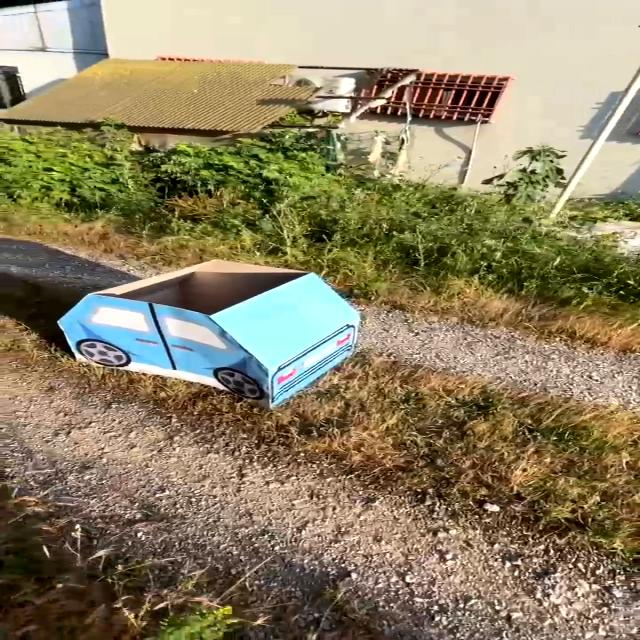blue_car: (0, 229, 412, 428)
